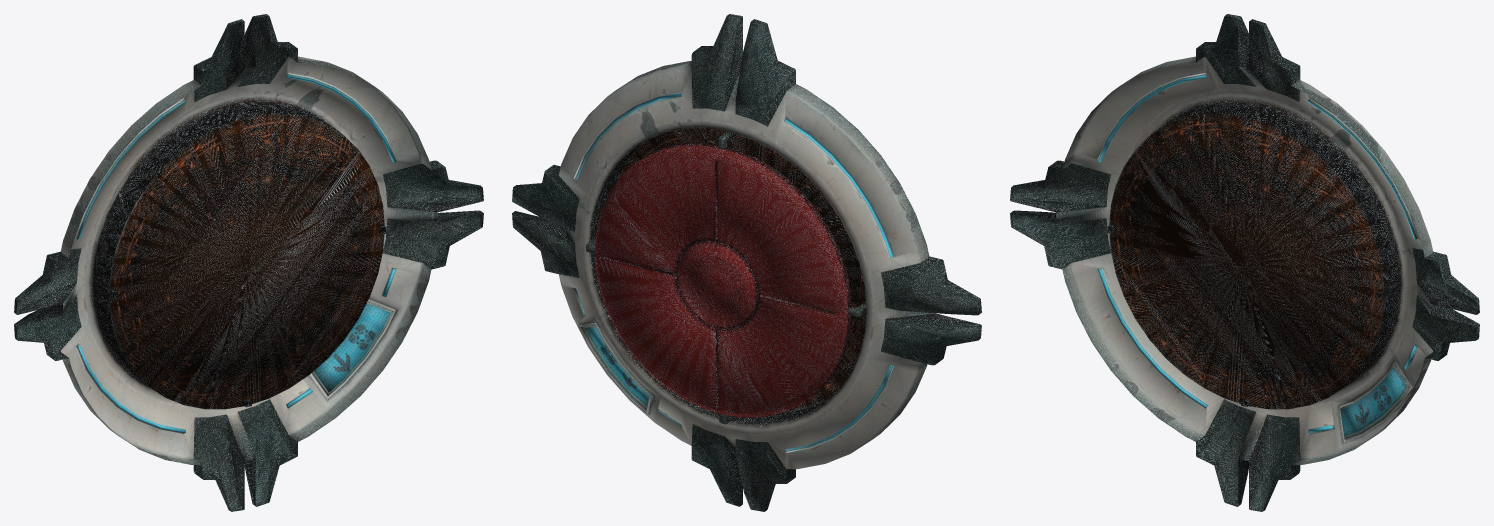
3 views of the same model, side by side, from view 1: azimuth 30°, elevation 25°; view 2: azimuth 150°, elevation 25°; view 3: azimuth 330°, elevation 25° (orthographic).
Parts seen in each view (by area): view 1: button_base_reference_reference; view 2: button_base_reference_reference, button_top_reference_reference; view 3: button_base_reference_reference.
Part boxes in pixels (bbox=[...]): button_base_reference_reference: bbox=[14, 14, 483, 511]; button_base_reference_reference: bbox=[512, 14, 981, 511]; button_top_reference_reference: bbox=[595, 142, 851, 417]; button_base_reference_reference: bbox=[1010, 14, 1479, 511].
Size of the model in its own units: 117 by 13.64 by 117.
2 materials, 1 textured.
